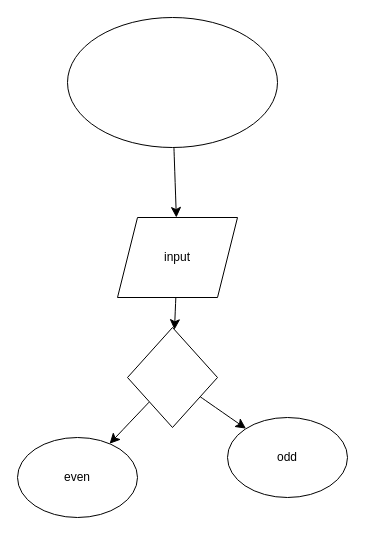
Some shapes in this 365 by 535 pixel diagram are drawn without their labels. The box of each missing label's shape, as (x1, y1, x2, y2) in pixels:
number %2==0: (126, 326, 218, 428)
start: (66, 16, 278, 148)
